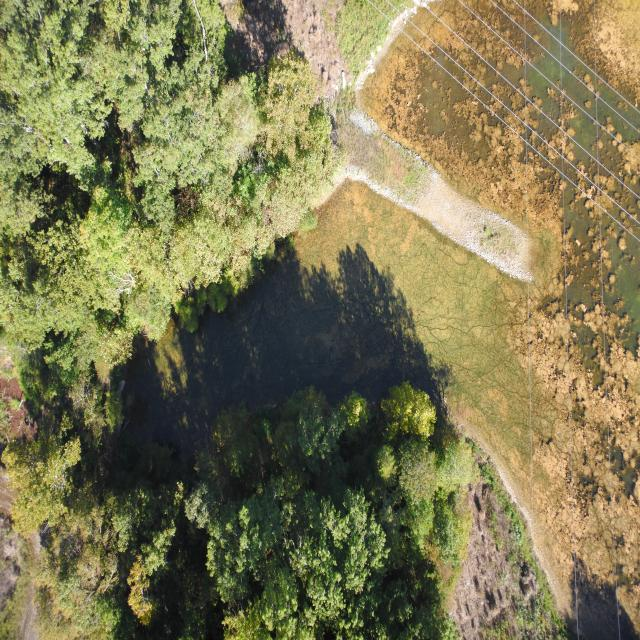Area of Interest: (7, 7, 325, 374), (119, 414, 446, 630)
